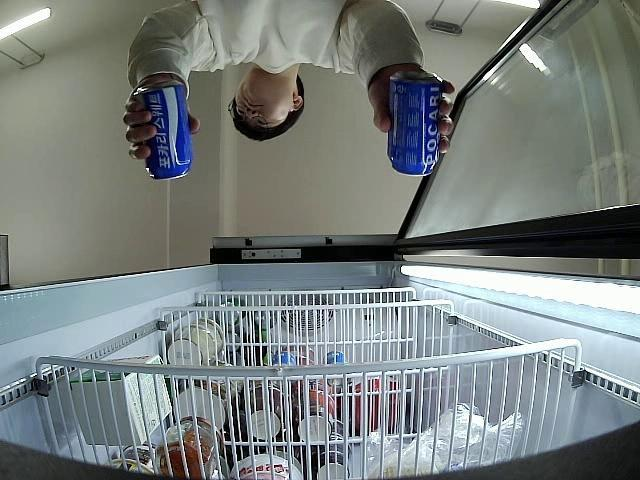13_pocariSweat: (137, 80, 194, 183), (386, 72, 441, 176)
